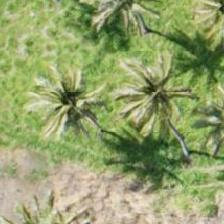coconut_tree: (109, 51, 199, 141), (24, 63, 114, 153), (71, 0, 161, 46), (171, 0, 223, 55)
